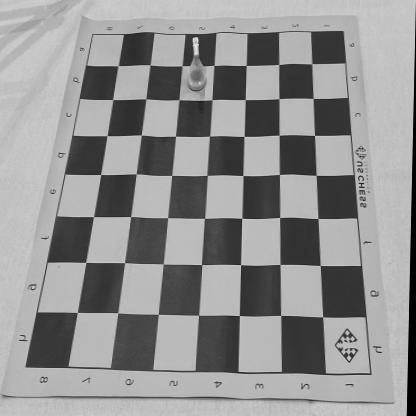white-knight: (186, 36, 208, 92)
